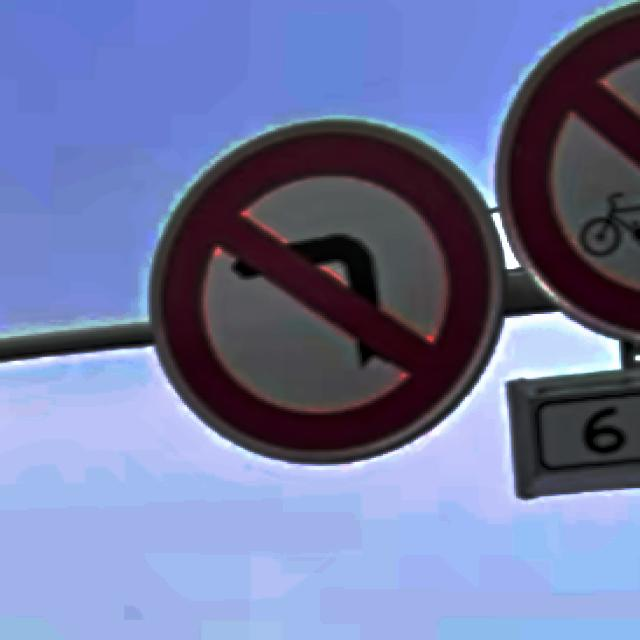noturnleft: (159, 136, 491, 452)
